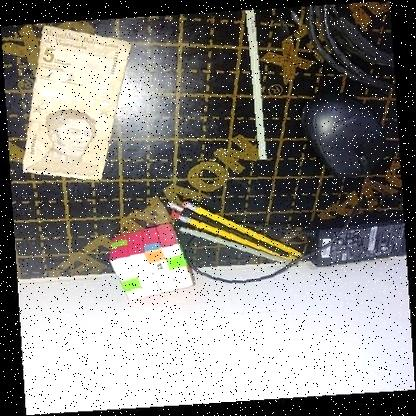five-front-vef: (22, 24, 132, 181)
